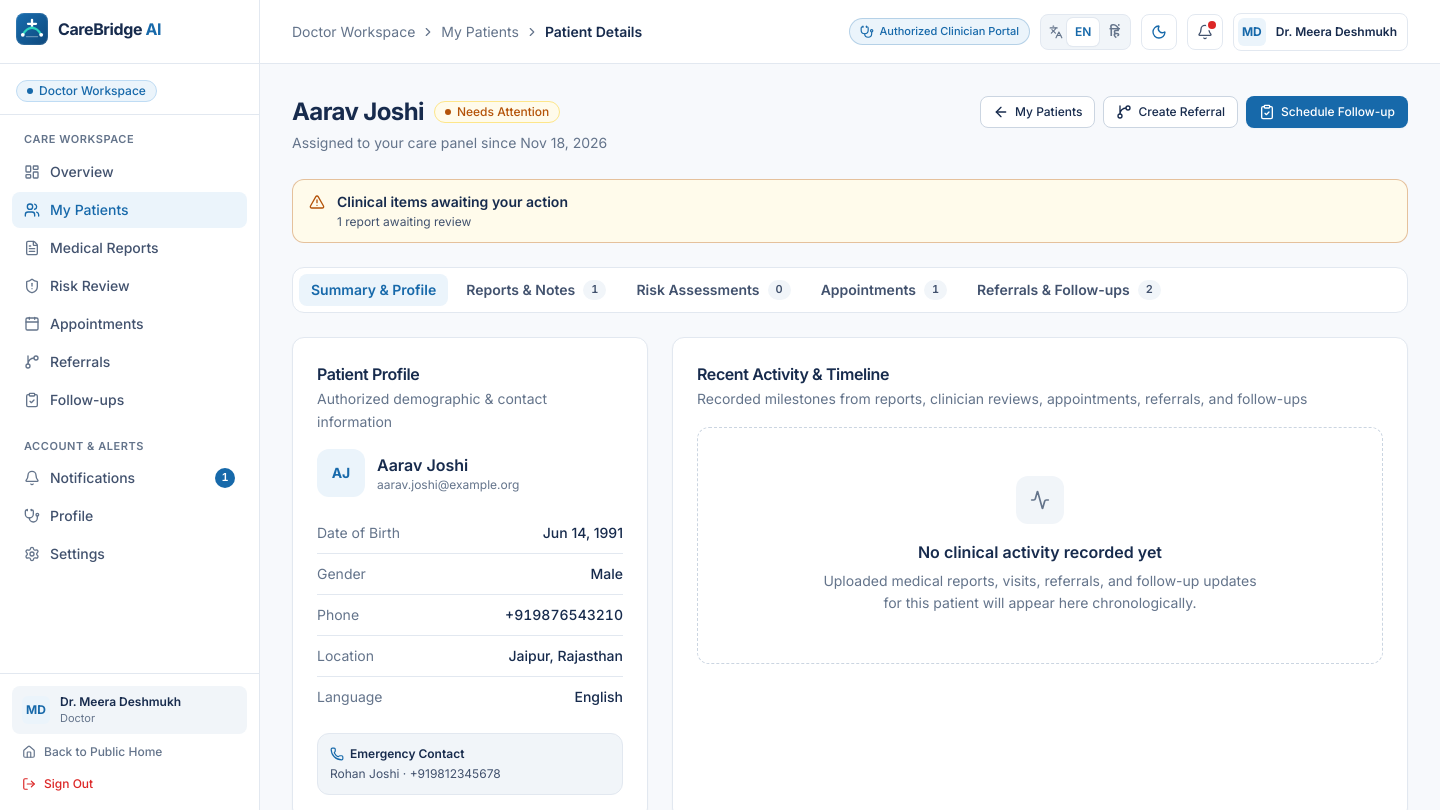
Scenario: Doctor Portal (Phase 6) — Live Workflows & Access Control › displays patient dossier tabs with separated clinician review notes and zero fabricated risk records
Expected: the heading "Aarav Joshi" is shown, [292,96,424,128]
Expected: the text "Rohan Joshi · +919812345678" is shown, [330,766,501,781]
// Reports & separated clinician notes
Click the tab "Reports & Notes 1".
click(536, 290)  # box [454,274,618,306]
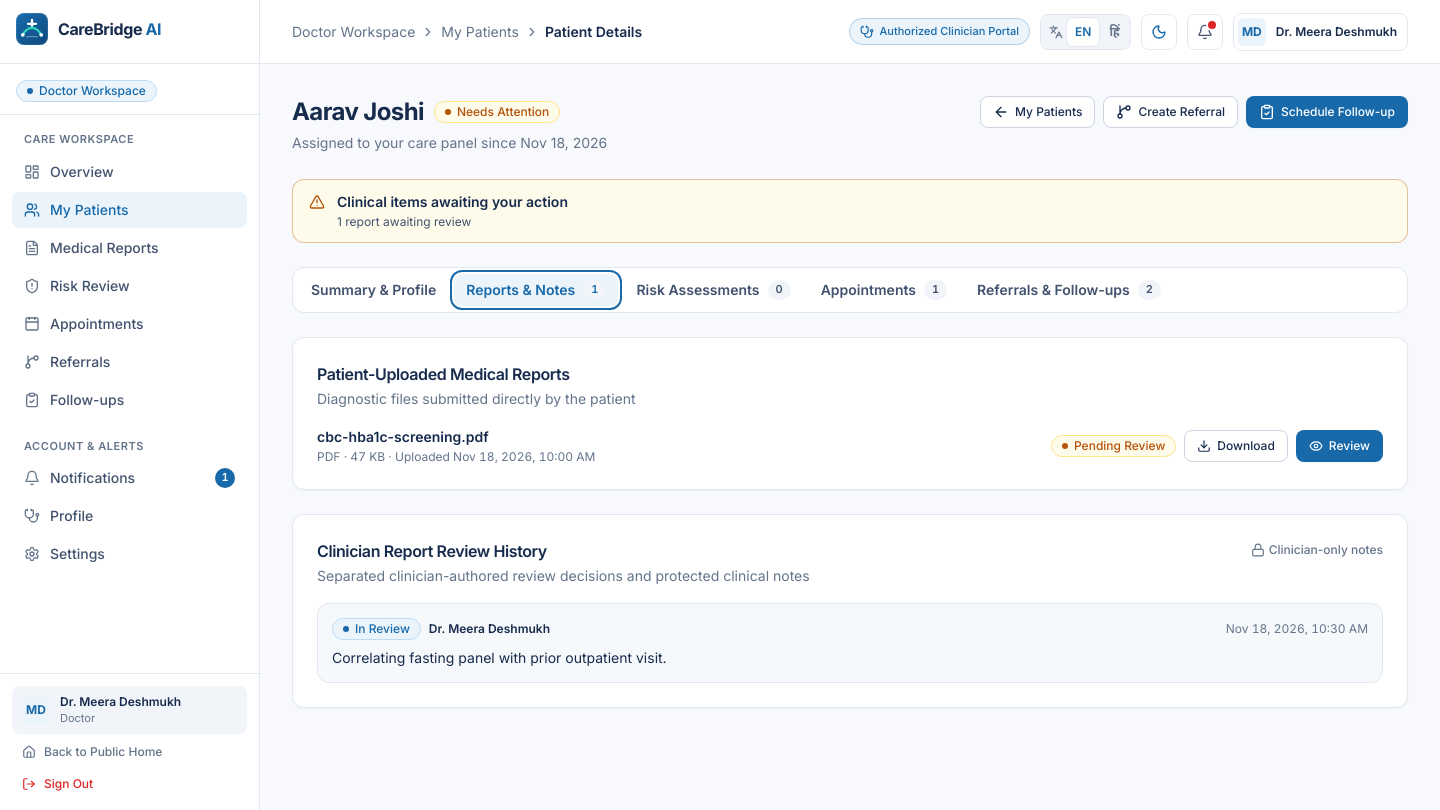
Expected: the text "cbc-hba1c-screening.pdf" is shown, [317,428,489,444]
Expected: the text "Correlating fasting panel with prior outpatient visit." is shown, [332,649,667,666]
// Risk tab shows truthful empty state (never fabricates risk score)
Click the tab "Risk Assessments 0".
click(714, 290)  # box [624,274,803,306]
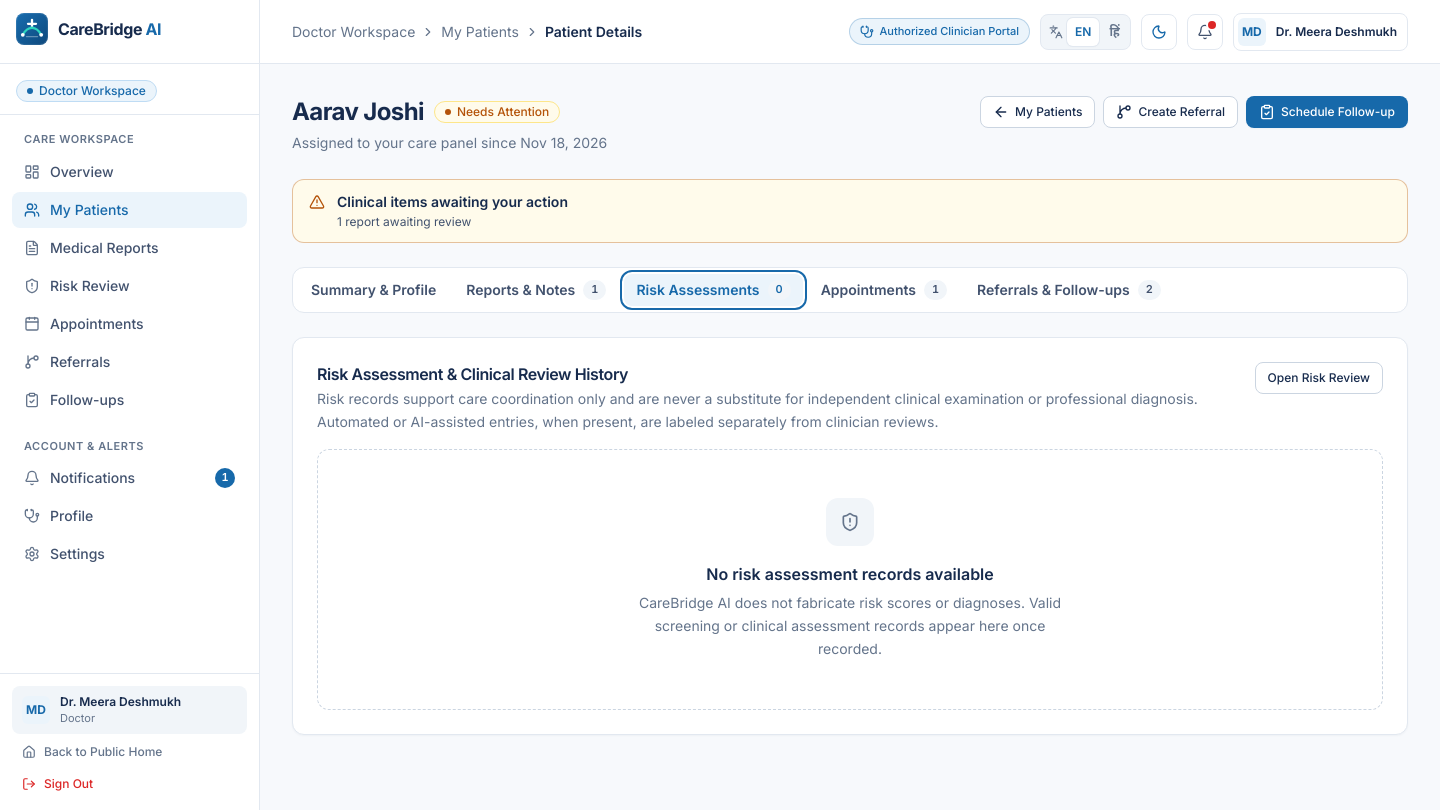
Expected: the heading "No risk assessment records available" is shown, [706,562,994,586]
